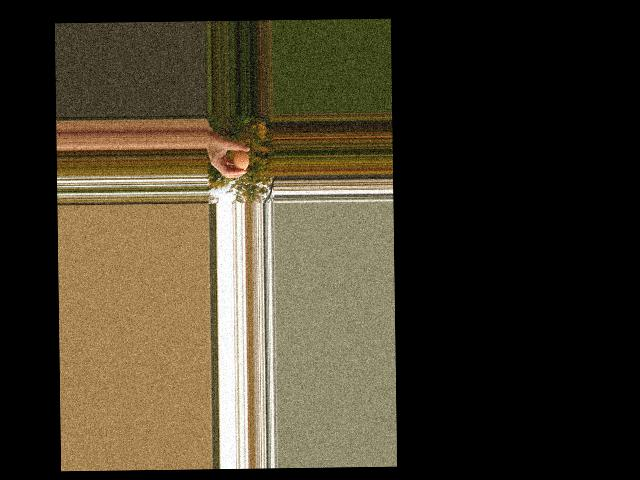egg: (234, 150, 249, 170)
